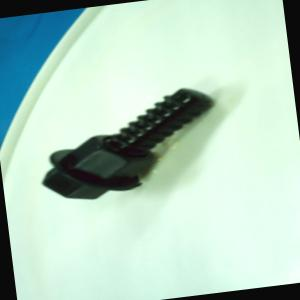parafuso: (30, 82, 226, 206)
